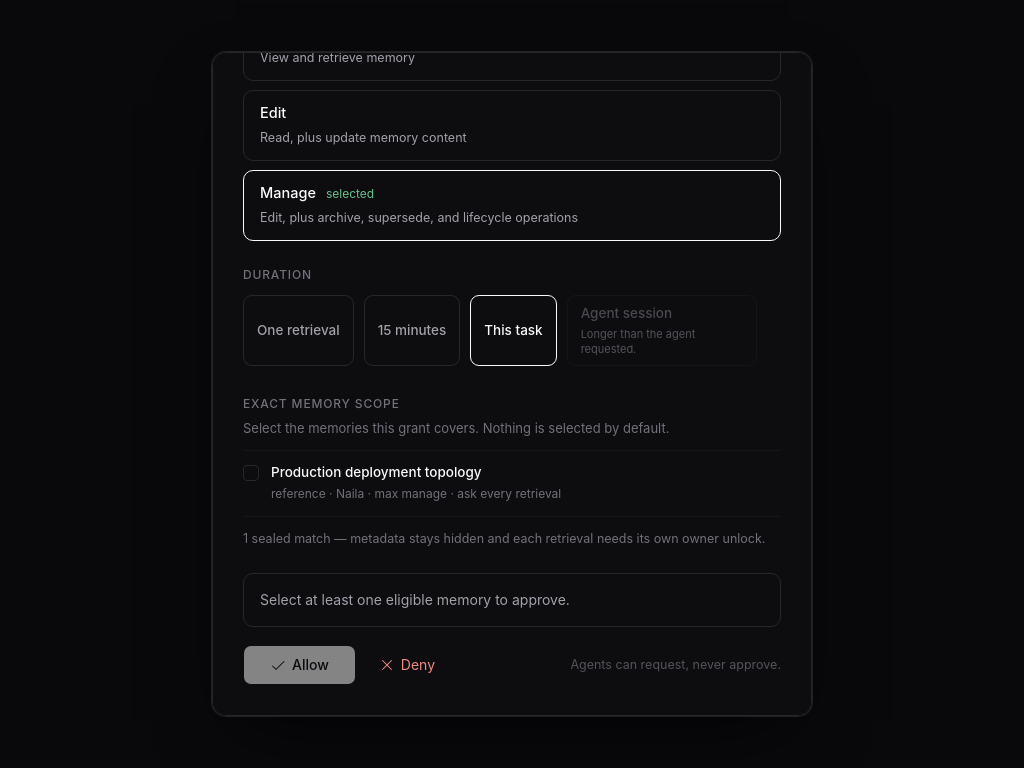
Scenario: RequestDialog › forces one retrieval when any selected memory uses per-access approval
(page scrolled)
Click the checkbox named "Select Production deployment topology". click: [251, 473]
box: x1=243 y1=465 x2=259 y2=481
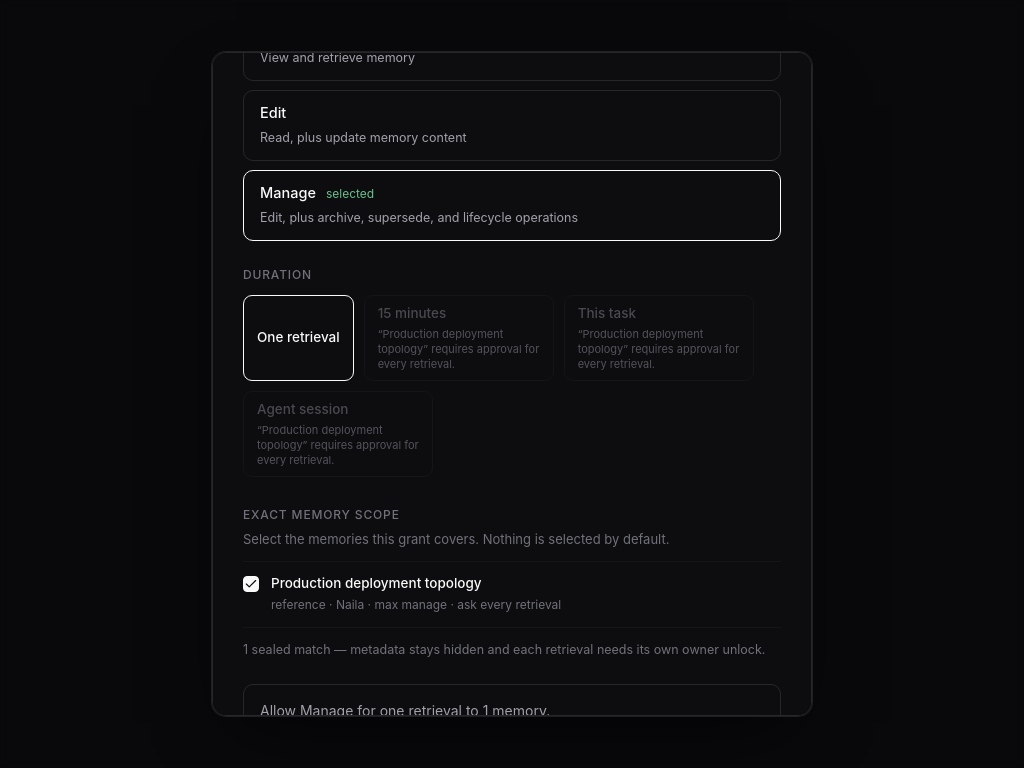
Now the button "15 minutes" is disabled, box x1=364 y1=295 x2=554 y2=381
Now the text "Allow Manage for one retrieval to 1 memory." is shown, box x1=260 y1=702 x2=550 y2=716
